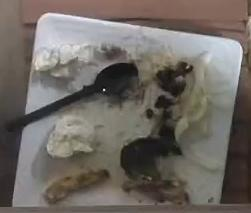broccoli: (121, 120, 181, 179)
unknown: (156, 61, 187, 97)
